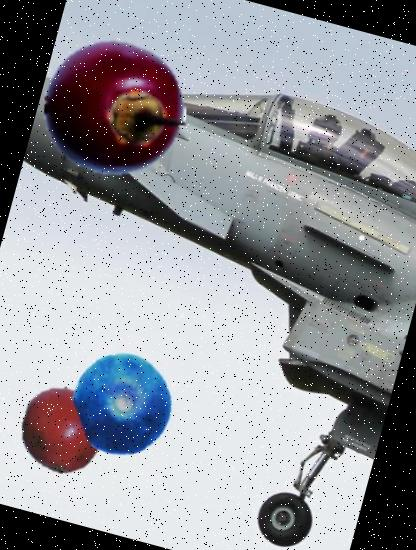Huckleberry: (61, 342, 186, 467)
Pomegranate: (8, 376, 116, 484)
Tamarillo: (28, 22, 203, 196)
